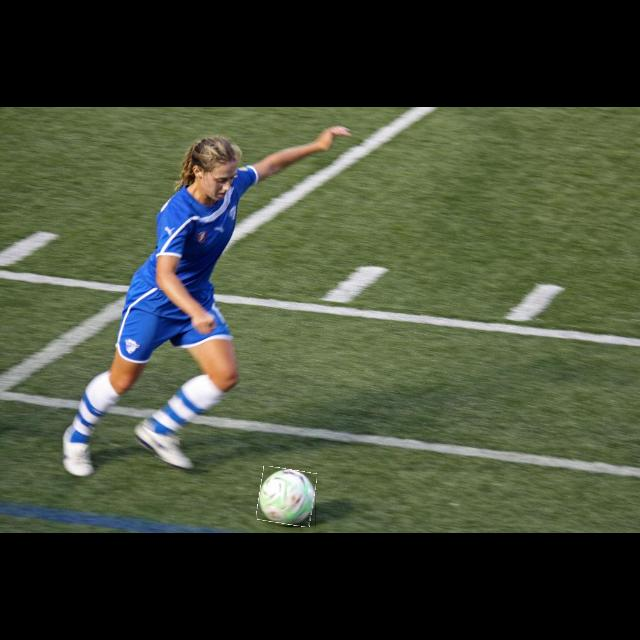Football: (258, 468, 316, 526)
